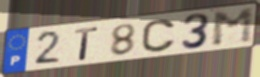2: (32, 29, 65, 68)
3: (180, 12, 213, 51)
8: (109, 22, 138, 57)
C: (140, 18, 178, 54)
M: (211, 6, 255, 49)
T: (73, 25, 100, 61)
